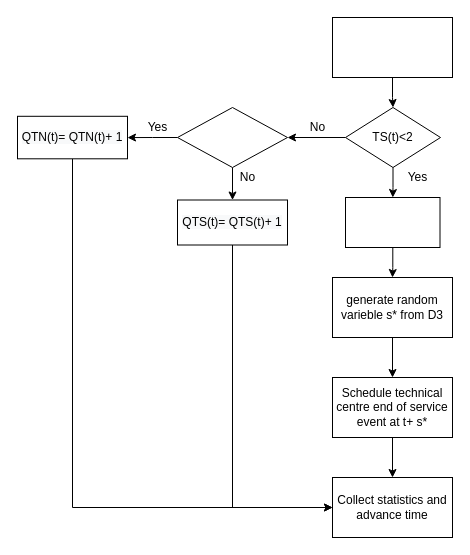
The diagram is 470 pixels wide and 555 high, and some of its shapes have lost their labels. Each missing label, with the centre of its shape:
"Is customer normal?" belongs at [232,137].
"Technical centre arrival at time t" belongs at [392,47].
"TS(t)= TS(t)+ 1" belongs at [392,222].
